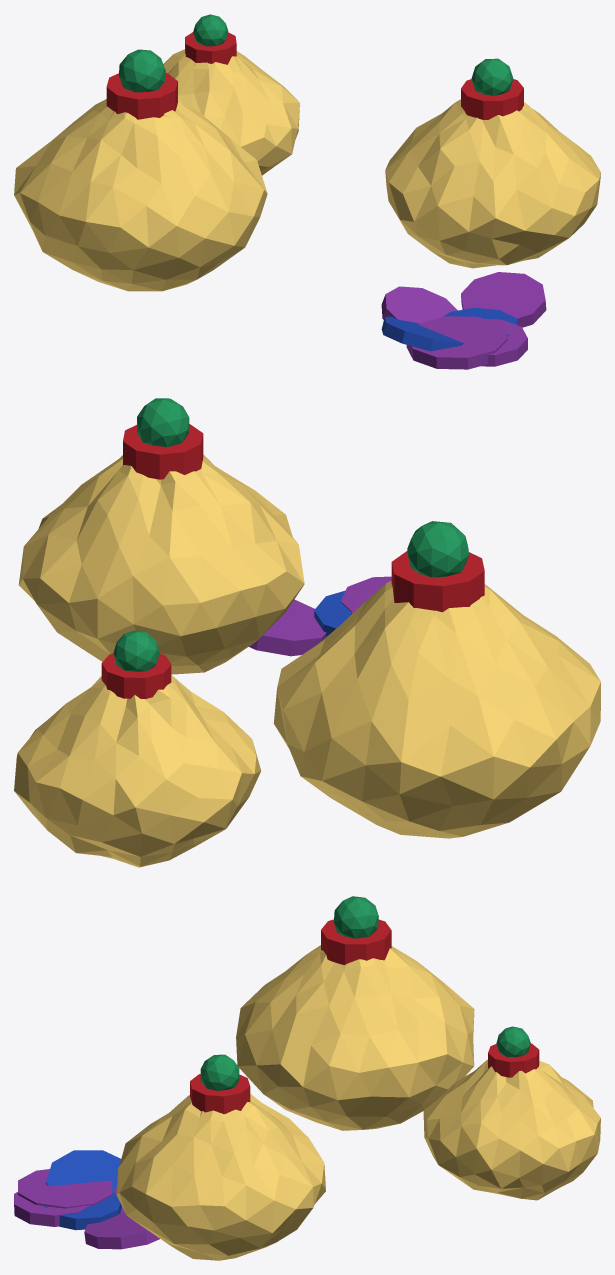
The model's file is treasury_gold_2.obj.
3 renders of one model, top to bottom at view 1: azimuth 30°, elevation 25°; view 2: azimuth 150°, elevation 25°; view 3: azimuth 270°, elevation 25°, orthographic. The views are drawn at different scales.
Visible parts, largest first — view 1: geometry_0, geometry_3, geometry_6, geometry_14, geometry_13, geometry_1, geometry_10, geometry_4, geometry_2, geometry_12, geometry_5, geometry_11 (+3 smaller); view 2: geometry_0, geometry_3, geometry_6, geometry_1, geometry_4, geometry_2, geometry_13, geometry_5, geometry_7, geometry_8, geometry_9, geometry_11; view 3: geometry_0, geometry_3, geometry_6, geometry_14, geometry_12, geometry_1, geometry_13, geometry_4, geometry_2, geometry_5, geometry_9, geometry_11 (+2 smaller).
Boxes of the visible parts, x1,y1,x2,y2 form: geometry_0: (14,94,267,291); geometry_3: (385,99,600,268); geometry_6: (163,49,299,175); geometry_14: (406,316,507,369); geometry_13: (461,272,546,327); geometry_1: (106,72,177,119); geometry_10: (381,286,457,323); geometry_4: (461,79,523,119); geometry_2: (119,49,165,92); geometry_12: (381,316,463,351); geometry_5: (471,58,513,95); geometry_11: (481,319,527,366); geometry_0: (273,581,600,838); geometry_3: (18,454,304,674); geometry_6: (14,675,261,867); geometry_1: (391,551,484,612); geometry_4: (123,424,203,479); geometry_2: (407,521,469,577); geometry_13: (249,599,326,656); geometry_5: (137,398,189,447); geometry_7: (101,653,171,699); geometry_8: (113,630,159,671); geometry_9: (314,588,376,636); geometry_11: (340,576,391,611); geometry_0: (236,945,474,1130); geometry_3: (116,1093,325,1260); geometry_6: (423,1059,600,1200); geometry_14: (18,1169,112,1208); geometry_12: (46,1150,120,1192); geometry_1: (321,919,391,964); geometry_13: (84,1213,159,1249); geometry_4: (190,1074,250,1114); geometry_2: (334,896,378,938); geometry_5: (200,1054,239,1090); geometry_9: (43,1192,121,1230); geometry_11: (14,1192,90,1226).
Bounding box in the file's own units: 0.5119 × 0.249 × 0.5599.
